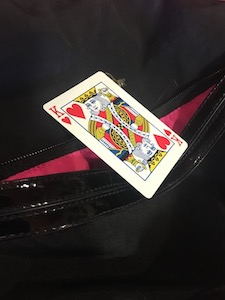KingOfHearts: (41, 66, 193, 201)
